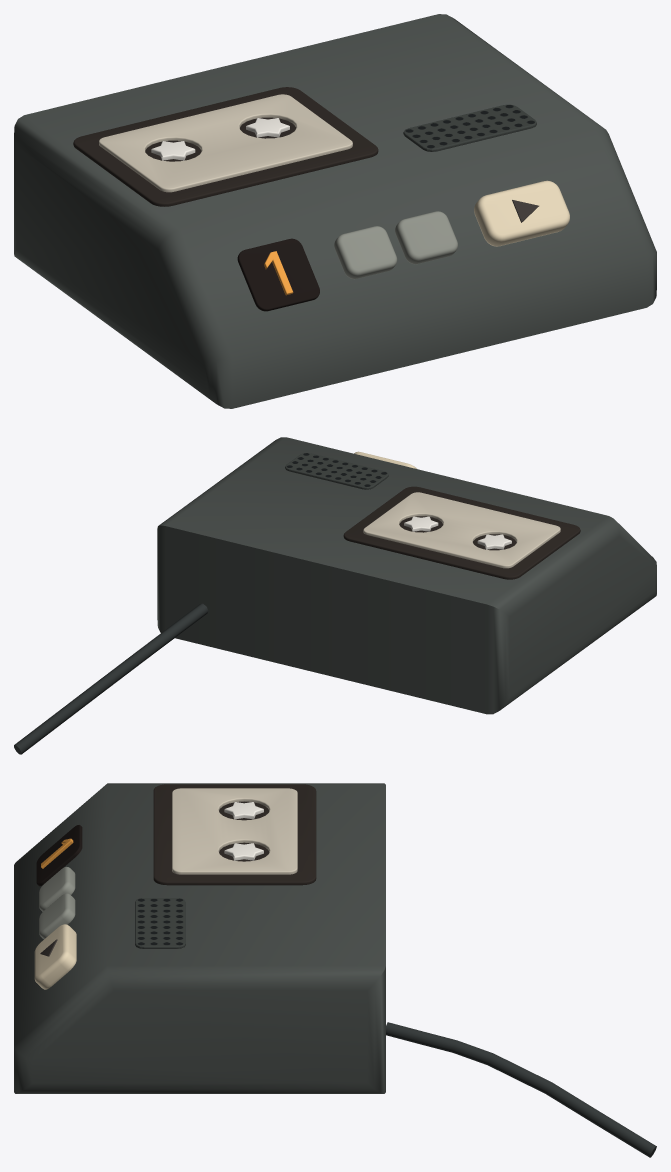
File: answering_machine.glb
The picture shows the model from 3 angles, top to bottom: view 1: azimuth 30°, elevation 25°; view 2: azimuth 150°, elevation 25°; view 3: azimuth 270°, elevation 25°; orthographic projection. The views are drawn at different scales.
Visible parts, largest first — view 1: AnsBody, Cassette, TapeLid, Button_Play, LedWindow, AnsGrille, ButtonStop, ButtonRew, ReelL, ReelR; view 2: AnsBody, Cassette, TapeLid, AnsCord, AnsGrille; view 3: AnsBody, Cassette, TapeLid, AnsCord, AnsGrille, Button_Play, LedWindow, ButtonRew, ButtonStop.
Part boxes in pixels (x1,y1,x2,y2): AnsBody: (14, 14, 656, 408); Cassette: (99, 94, 352, 192); TapeLid: (73, 87, 378, 206); Button_Play: (474, 180, 569, 246); LedWindow: (237, 238, 319, 311); AnsGrille: (403, 104, 536, 151); ButtonStop: (334, 226, 397, 279); ButtonRew: (395, 211, 457, 264); ReelL: (151, 141, 195, 160); ReelR: (246, 118, 289, 137); AnsBody: (157, 437, 656, 714); Cassette: (363, 492, 560, 568); TapeLid: (343, 486, 580, 579); AnsCord: (14, 603, 208, 754); AnsGrille: (285, 453, 388, 489); AnsBody: (14, 783, 385, 1093); Cassette: (172, 788, 297, 874); TapeLid: (153, 784, 316, 885); AnsCord: (386, 1022, 656, 1157); AnsGrille: (135, 898, 185, 948); Button_Play: (34, 924, 76, 989); LedWindow: (36, 825, 82, 886); ButtonRew: (39, 893, 75, 939); ButtonStop: (39, 866, 75, 911).
Size of the model in its own units: 0.2128 by 0.0861 by 0.2766.
11 materials, 1 textured.
